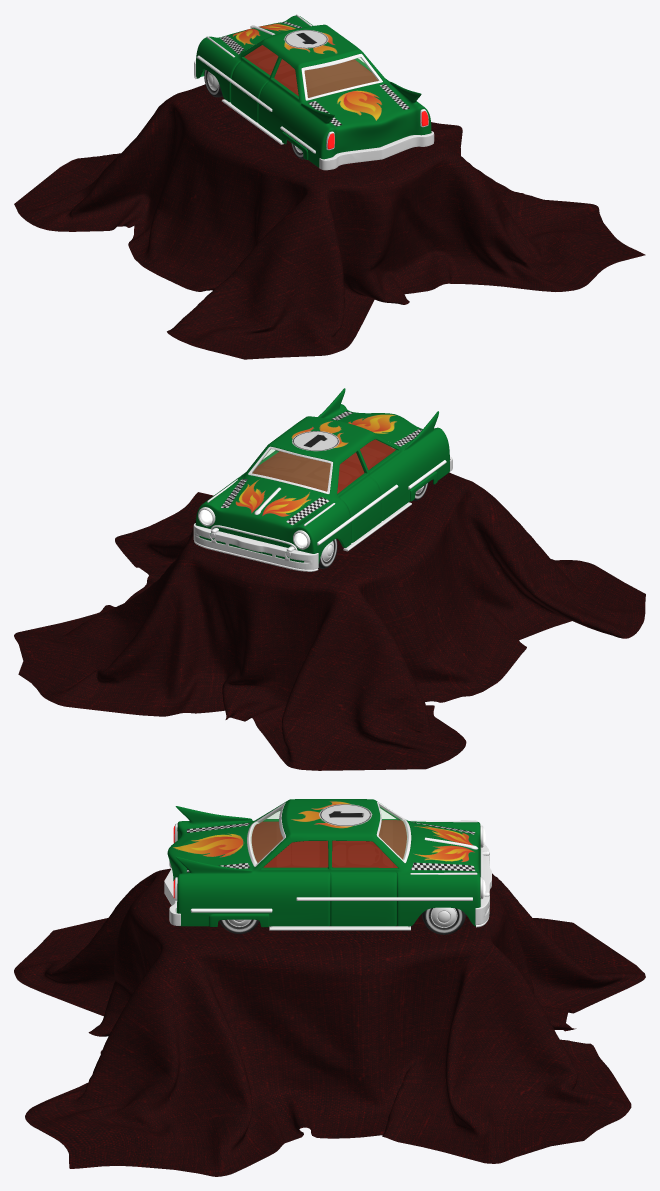
The picture shows the model from 3 angles, top to bottom: view 1: azimuth 30°, elevation 25°; view 2: azimuth 150°, elevation 25°; view 3: azimuth 270°, elevation 25°; orthographic projection. The views are drawn at different scales.
Visible parts, largest first — view 1: Fabric, ToyCar, Glass; view 2: Fabric, ToyCar, Glass; view 3: Fabric, ToyCar, Glass.
Boxes of the visible parts, x1,y1,x2,y2 form: Fabric: (14, 84, 645, 359); ToyCar: (194, 14, 434, 170); Glass: (305, 57, 377, 97); Fabric: (14, 472, 645, 770); ToyCar: (193, 388, 452, 571); Glass: (252, 449, 330, 490); Fabric: (14, 868, 645, 1176); ToyCar: (164, 799, 491, 934); Glass: (250, 805, 407, 862).
Size of the model in its own units: 199 by 77.94 by 200.
Materials: 3 (2 with a texture image).
